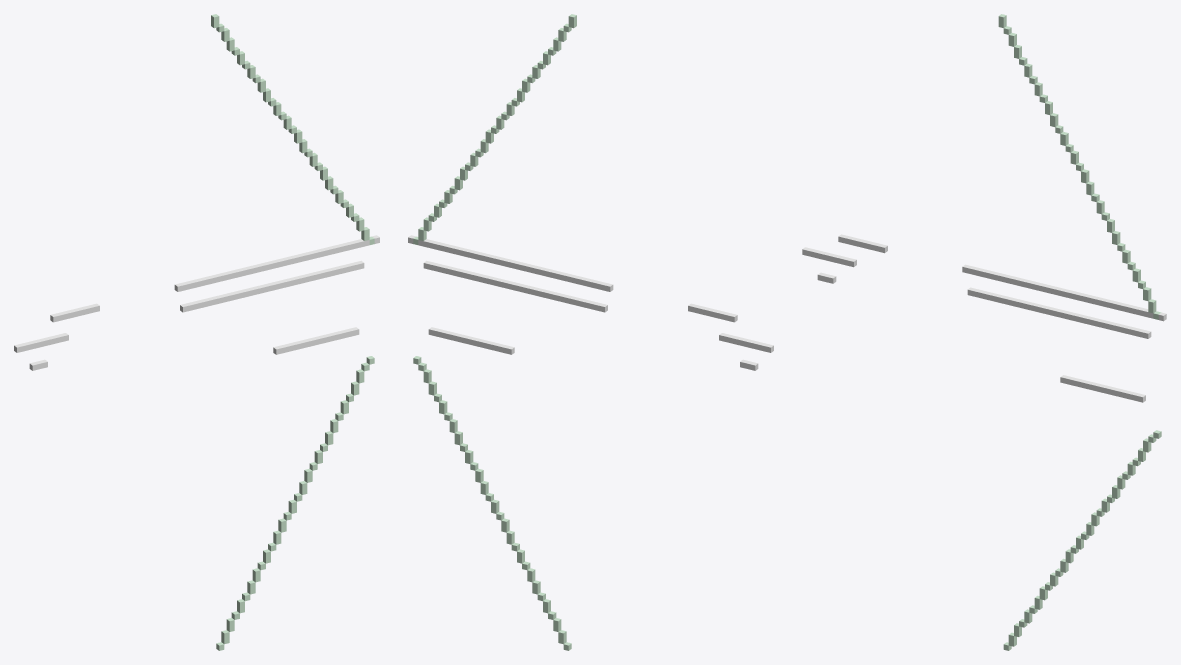
File: Fight_026_2_06_fx.obj
3 renders of one model, left to right at view 1: azimuth 30°, elevation 25°; view 2: azimuth 150°, elevation 25°; view 3: azimuth 330°, elevation 25°, orthographic.
Bounding box in the file's own units: 7 × 11.7 × 0.1.
